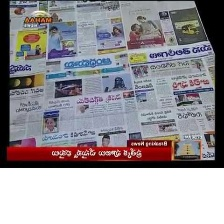news_paper: (10, 0, 216, 162)
